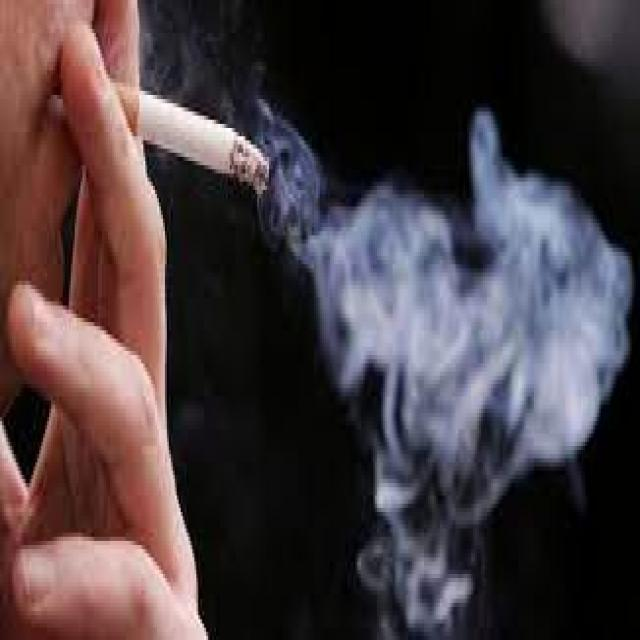smoke: (104, 79, 273, 194)
